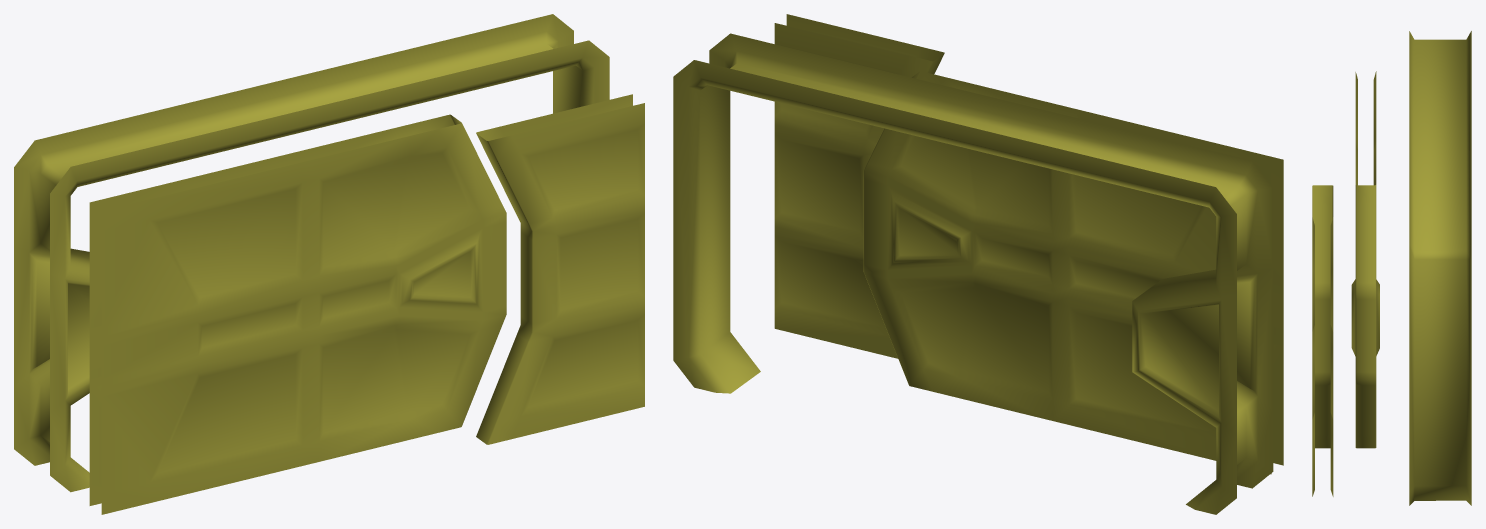
The model's file is DoorLow.FBX.
3 renders of one model, left to right at view 1: azimuth 30°, elevation 25°; view 2: azimuth 150°, elevation 25°; view 3: azimuth 270°, elevation 25°, orthographic. The views are drawn at different scales.
Parts seen in each view (by area): view 1: SM_BlastDoorFrame_E; view 2: SM_BlastDoorFrame_E; view 3: SM_BlastDoorFrame_E.
Boxes of the visible parts, left/top/right/bottom form: SM_BlastDoorFrame_E: left=14, top=14, right=644, bottom=514; SM_BlastDoorFrame_E: left=673, top=14, right=1283, bottom=514; SM_BlastDoorFrame_E: left=1312, top=31, right=1471, bottom=505.
Bounding box in the file's own units: 213 × 60.41 × 118.
